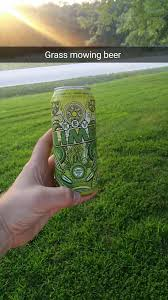can: (51, 85, 97, 199)
